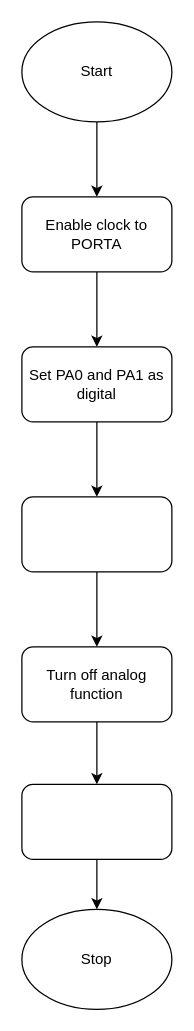
This 194x1031 diagram has some shape labels left out. Here are the shapes that lost their labels. From the top down, the centre of each, then its label:
At (x=96, y=534): "Use PA0, PA1 alternate function".
At (x=96, y=821): "Enable UART pins on PA0 and PA1".
